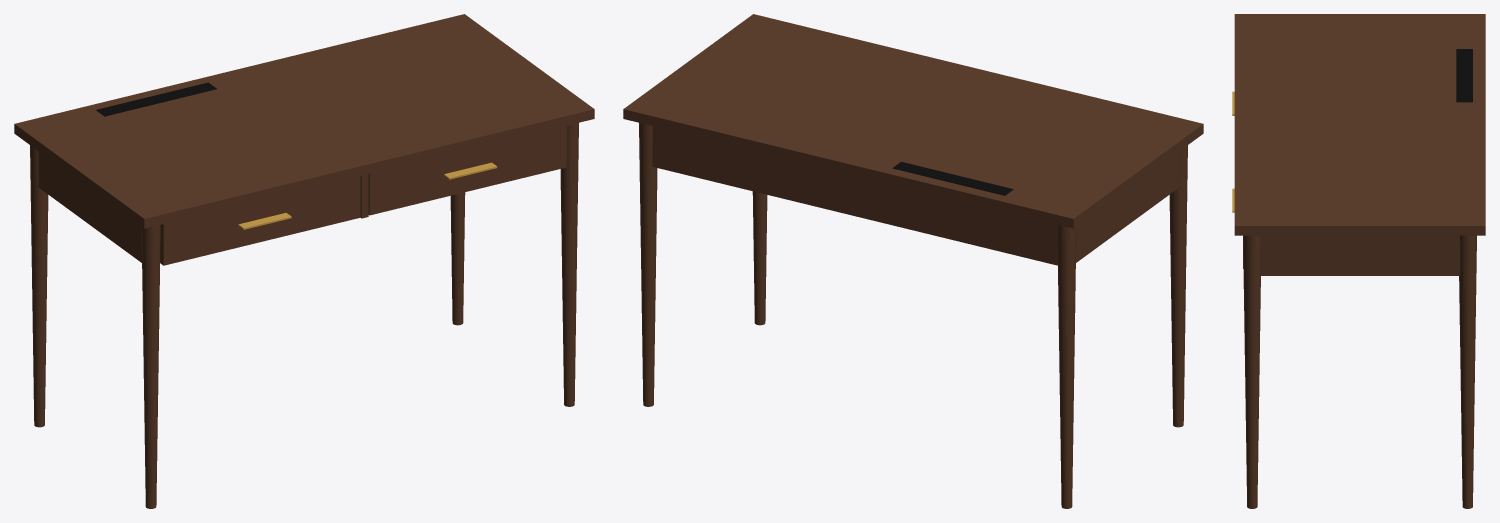
The model's file is 045_writing_desk.glb.
The picture shows the model from 3 angles, left to right: view 1: azimuth 30°, elevation 25°; view 2: azimuth 150°, elevation 25°; view 3: azimuth 270°, elevation 25°; orthographic projection. The views are drawn at different scales.
Parts seen in each view (by area): view 1: 004_table_top, 009_drawer_1_front, 016_drawer_2_front, 002_table_leg, 003_table_leg, 000_table_leg, 006_apron_l, 001_table_leg, 023_cable_slot_liner; view 2: 004_table_top, 005_apron_back, 000_table_leg, 001_table_leg, 002_table_leg, 006_apron_l, 003_table_leg, 023_cable_slot_liner; view 3: 004_table_top, 007_apron_r, 001_table_leg, 003_table_leg, 023_cable_slot_liner.
Boxes of the visible parts, bbox=[...] form: 004_table_top: bbox=[14, 14, 594, 228]; 009_drawer_1_front: bbox=[160, 176, 360, 265]; 016_drawer_2_front: bbox=[368, 126, 566, 215]; 002_table_leg: bbox=[141, 225, 160, 508]; 003_table_leg: bbox=[560, 123, 578, 406]; 000_table_leg: bbox=[30, 145, 48, 427]; 006_apron_l: bbox=[38, 152, 141, 262]; 001_table_leg: bbox=[450, 192, 465, 325]; 023_cable_slot_liner: bbox=[96, 82, 216, 116]; 004_table_top: bbox=[623, 14, 1203, 228]; 005_apron_back: bbox=[652, 126, 1057, 265]; 000_table_leg: bbox=[1057, 225, 1076, 508]; 001_table_leg: bbox=[639, 123, 657, 406]; 002_table_leg: bbox=[1169, 145, 1187, 427]; 006_apron_l: bbox=[1076, 152, 1179, 262]; 003_table_leg: bbox=[752, 191, 767, 325]; 023_cable_slot_liner: bbox=[892, 161, 1013, 195]; 004_table_top: bbox=[1234, 14, 1485, 235]; 007_apron_r: bbox=[1259, 235, 1460, 275]; 001_table_leg: bbox=[1459, 235, 1476, 508]; 003_table_leg: bbox=[1243, 235, 1260, 508]; 023_cable_slot_liner: bbox=[1456, 49, 1472, 102].
Bounding box in the file's own units: 1.2 × 0.761 × 0.605.
